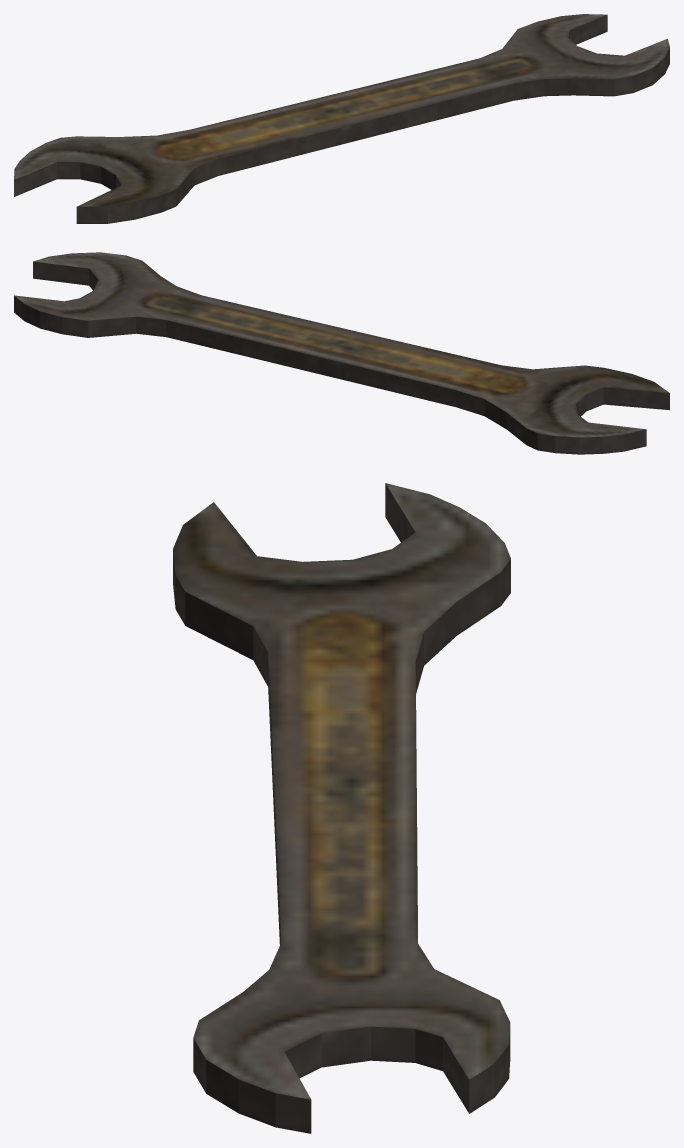
Rendered from wrench_mx_1.obj.
The picture shows the model from 3 angles, top to bottom: view 1: azimuth 30°, elevation 25°; view 2: azimuth 150°, elevation 25°; view 3: azimuth 270°, elevation 25°; orthographic projection. The views are drawn at different scales.
Parts seen in each view (by area): view 1: wrench_mx_1; view 2: wrench_mx_1; view 3: wrench_mx_1.
Boxes of the visible parts, x1,y1,x2,y2 form: wrench_mx_1: [14, 14, 669, 223]; wrench_mx_1: [14, 252, 669, 454]; wrench_mx_1: [173, 483, 510, 1133].
Bounding box in the file's own units: 0.3877 × 0.01 × 0.0898.
